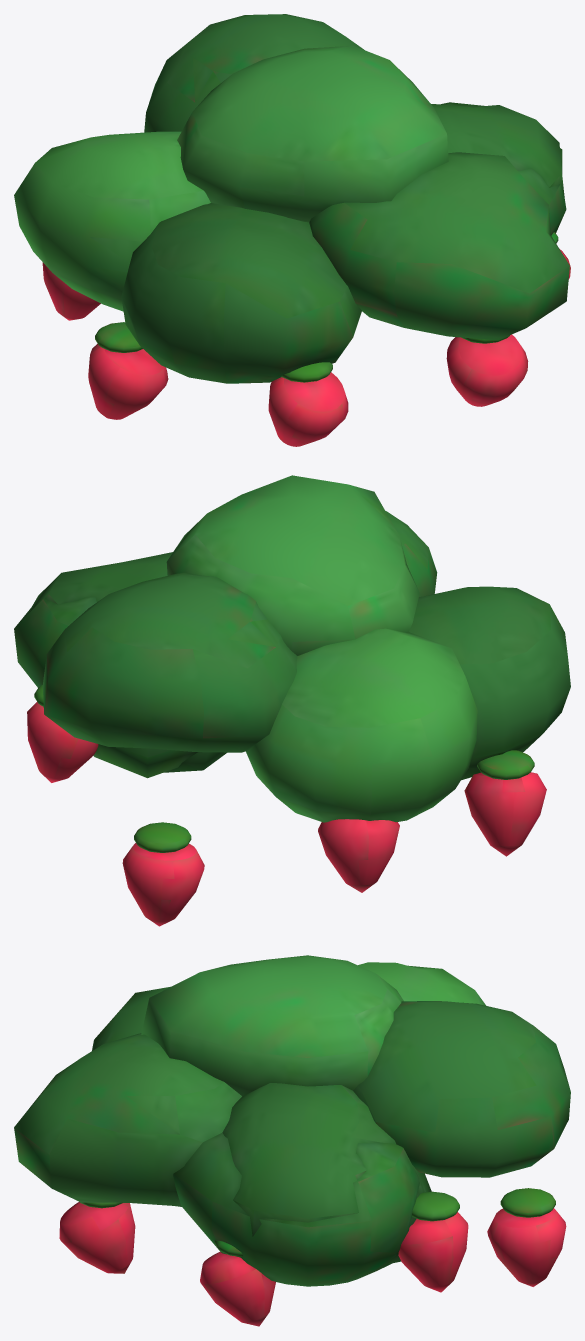
Rendered from crop_strawberry.glb.
3 renders of one model, top to bottom at view 1: azimuth 30°, elevation 25°; view 2: azimuth 150°, elevation 25°; view 3: azimuth 270°, elevation 25°, orthographic. The views are drawn at different scales.
Parts seen in each view (by area): view 1: crop_strawberry, fruit; view 2: crop_strawberry, fruit; view 3: crop_strawberry, fruit.
Part boxes in pixels (x1,y1,x2,y2): crop_strawberry: (14, 14, 569, 383); fruit: (42, 249, 570, 446); crop_strawberry: (14, 475, 570, 852); fruit: (27, 702, 546, 926); crop_strawberry: (14, 955, 570, 1286); fruit: (59, 1202, 566, 1326).
Bounding box in the file's own units: 0.2687 × 0.1727 × 0.277.
1 material, 1 textured.
